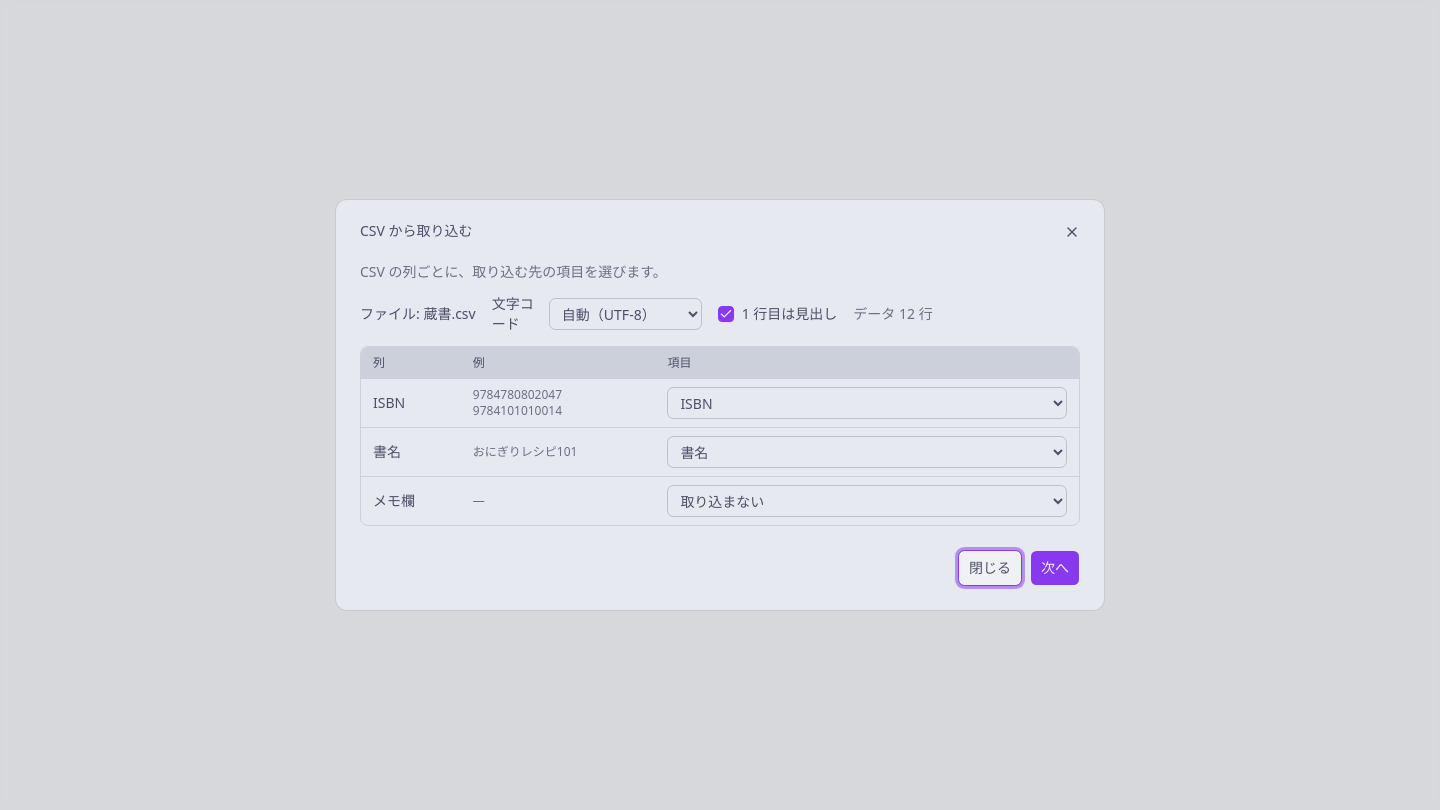
Test: 確認 › 件数と、新しく作るものを出し、取り込む冊数をボタンに出す
expect the text "データ 12 行" is shown: met, box left=853, top=304, right=933, bottom=324
Click the button "次へ".
click(1055, 568)  # box left=1030, top=550, right=1080, bottom=586
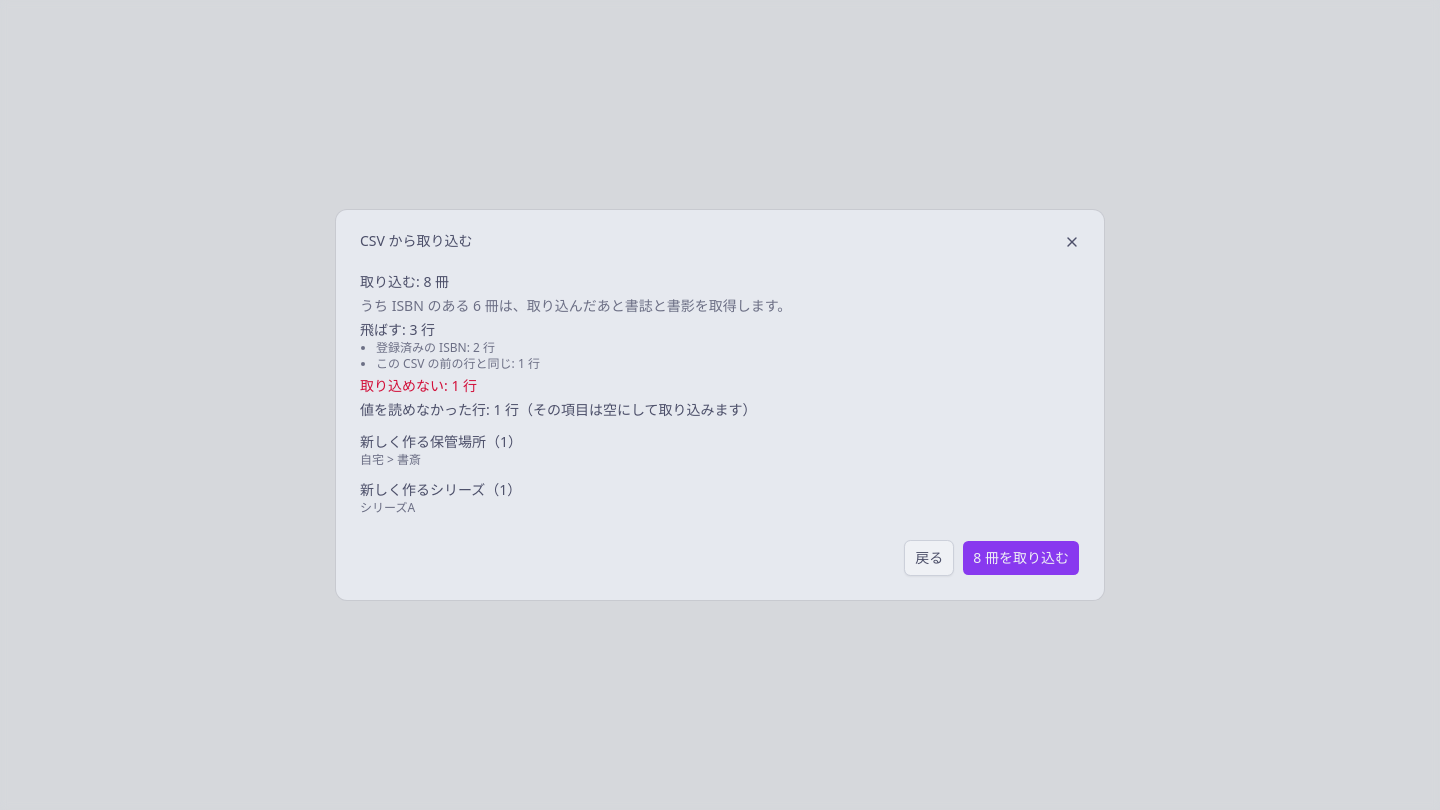
expect the element with test id "csv-summary" is shown: met, box left=360, top=272, right=791, bottom=419
expect the text "自宅 > 書斎" is shown: met, box left=360, top=451, right=421, bottom=468
expect the text "シリーズA" is shown: met, box left=360, top=499, right=415, bottom=516
